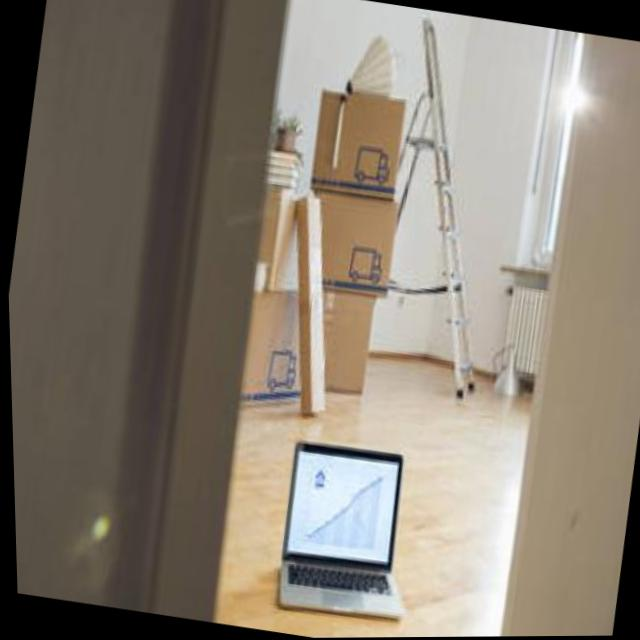box: (222, 290, 378, 433), (301, 71, 420, 204), (289, 185, 409, 307)
